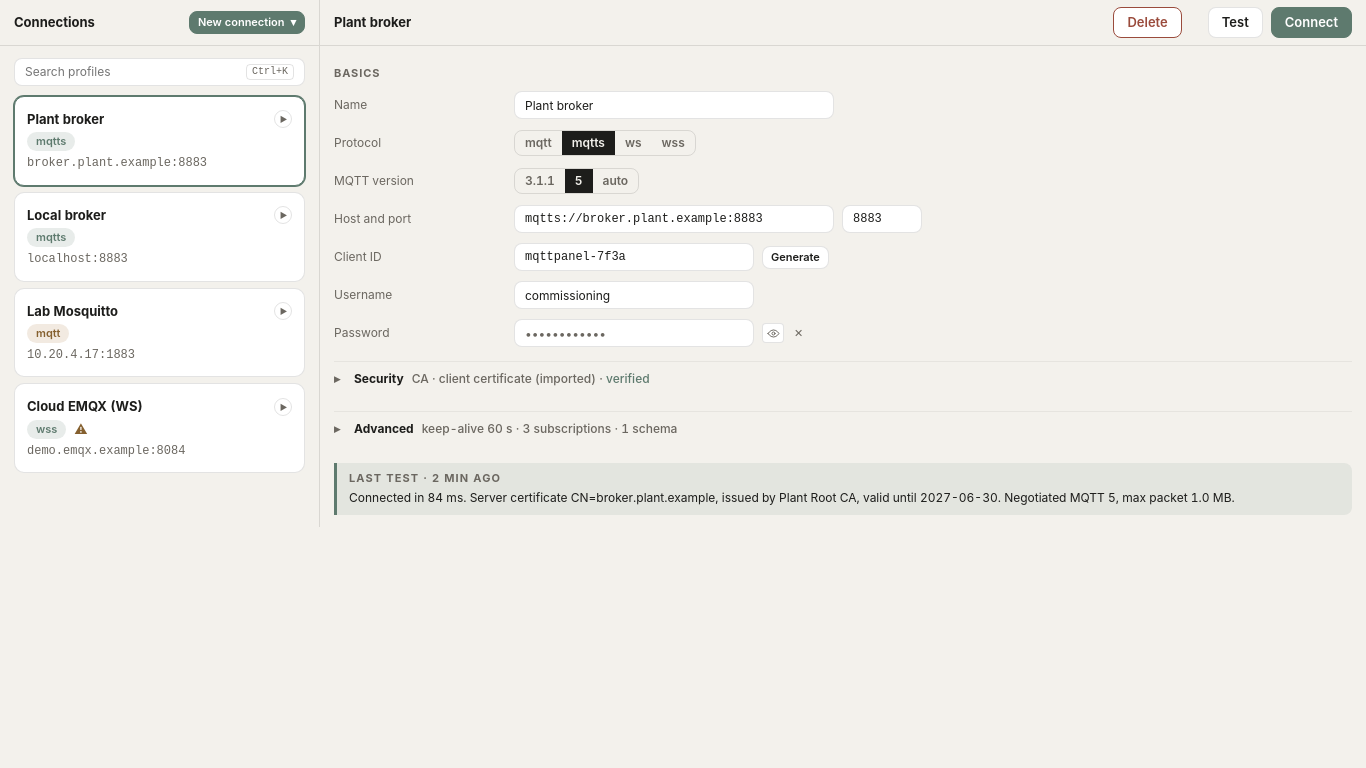
Change set 2: Connections (C-14) › form header: Delete outlined in brick, then Test and Connect; no Duplicate button
Click the button with test id "delete-profile-btn".
click(1148, 22)  # box [1113,7,1182,38]
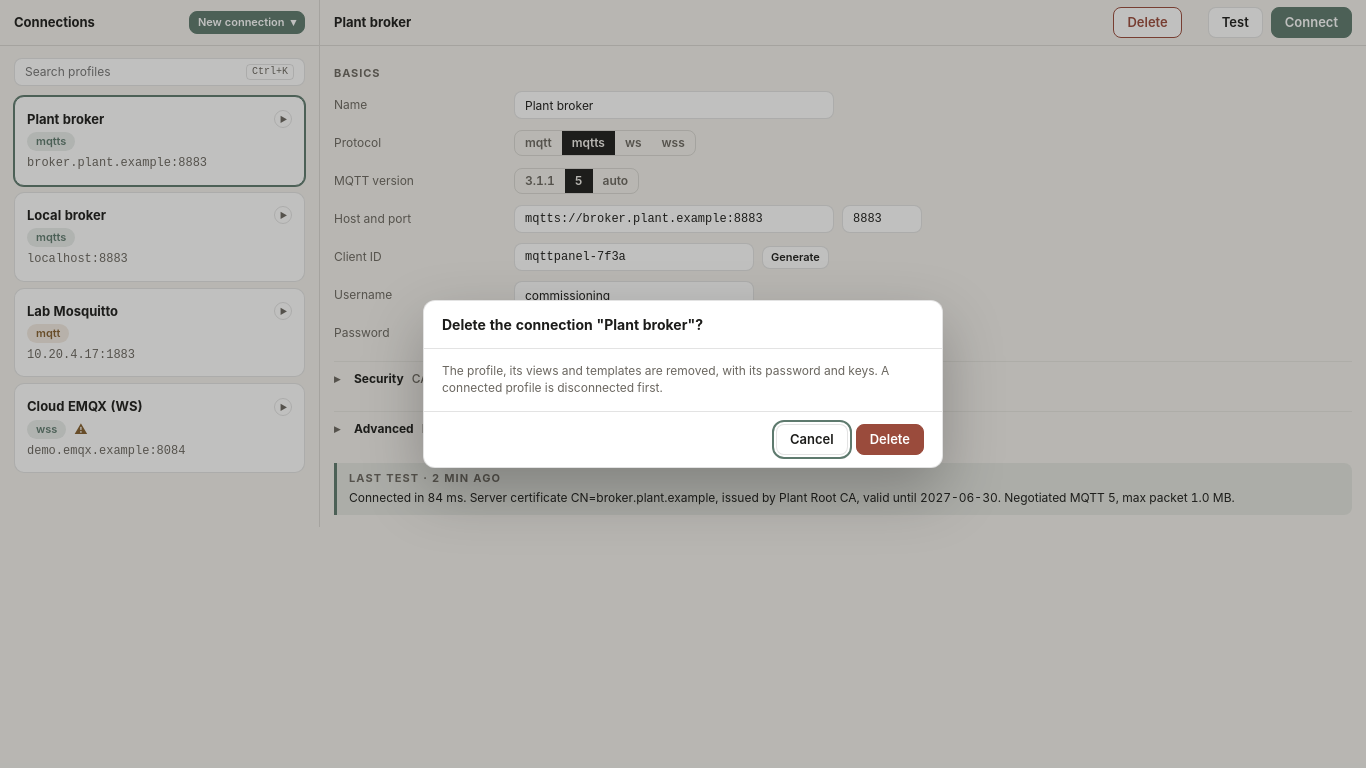
expect the dialog with test id "delete-profile" shows "Delete the connection \"Plant broker\"?": met, box [442,316,703,333]
